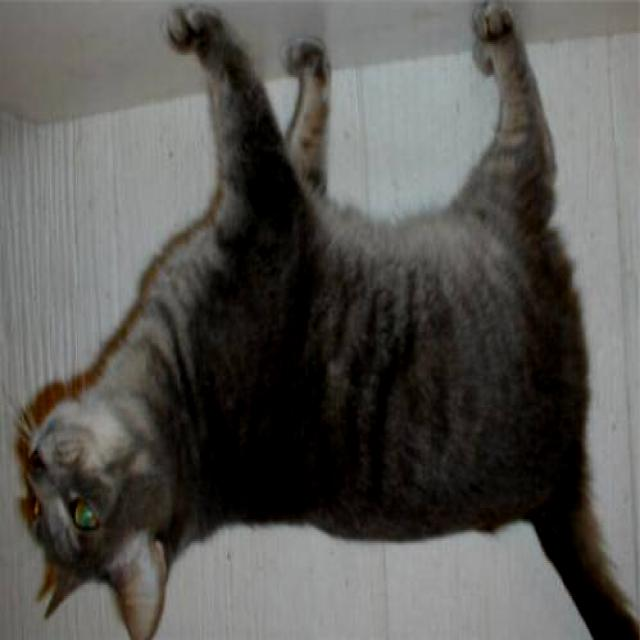Kucing: (12, 2, 631, 640)
